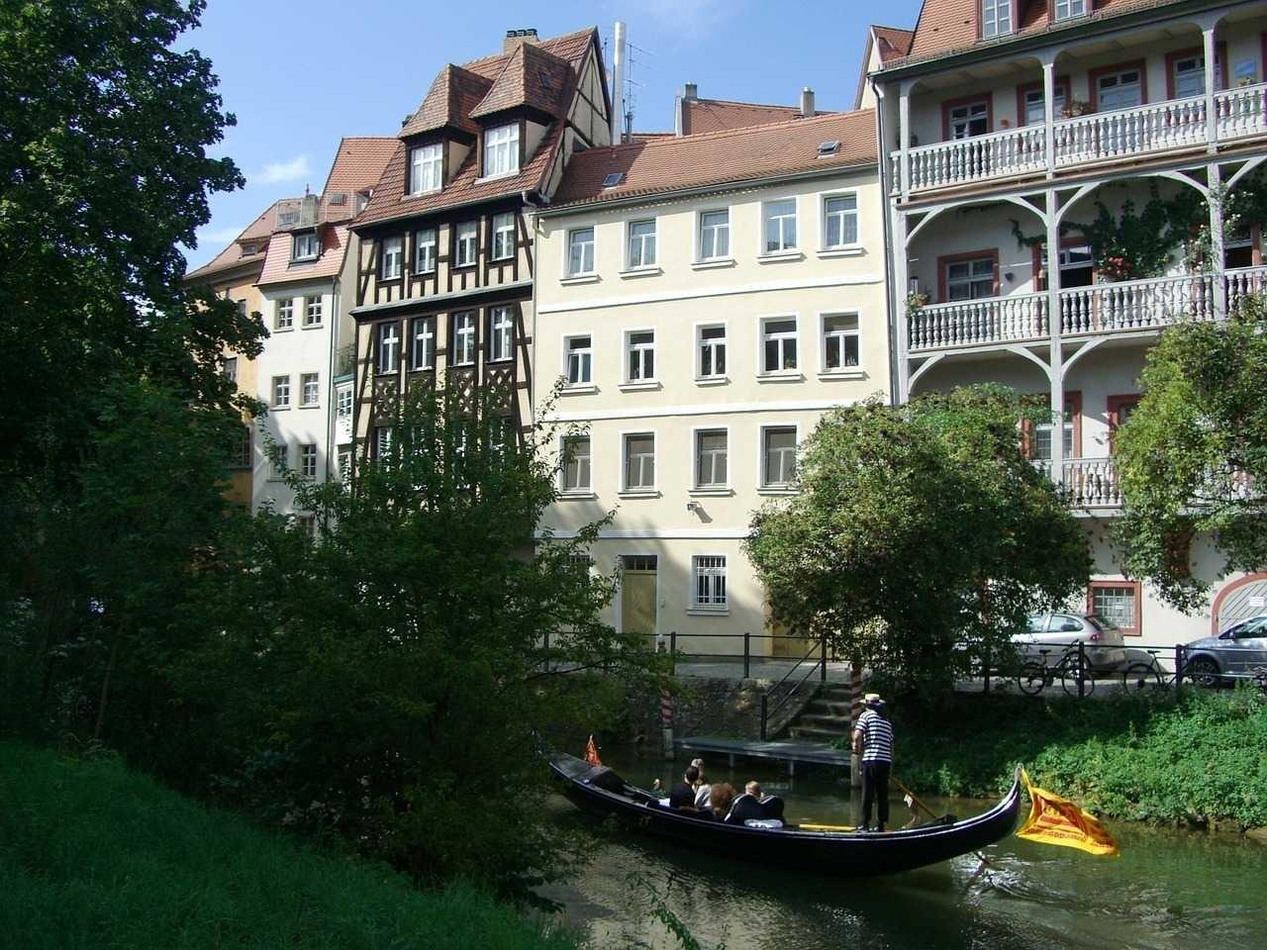kayak: (545, 755, 1061, 882)
